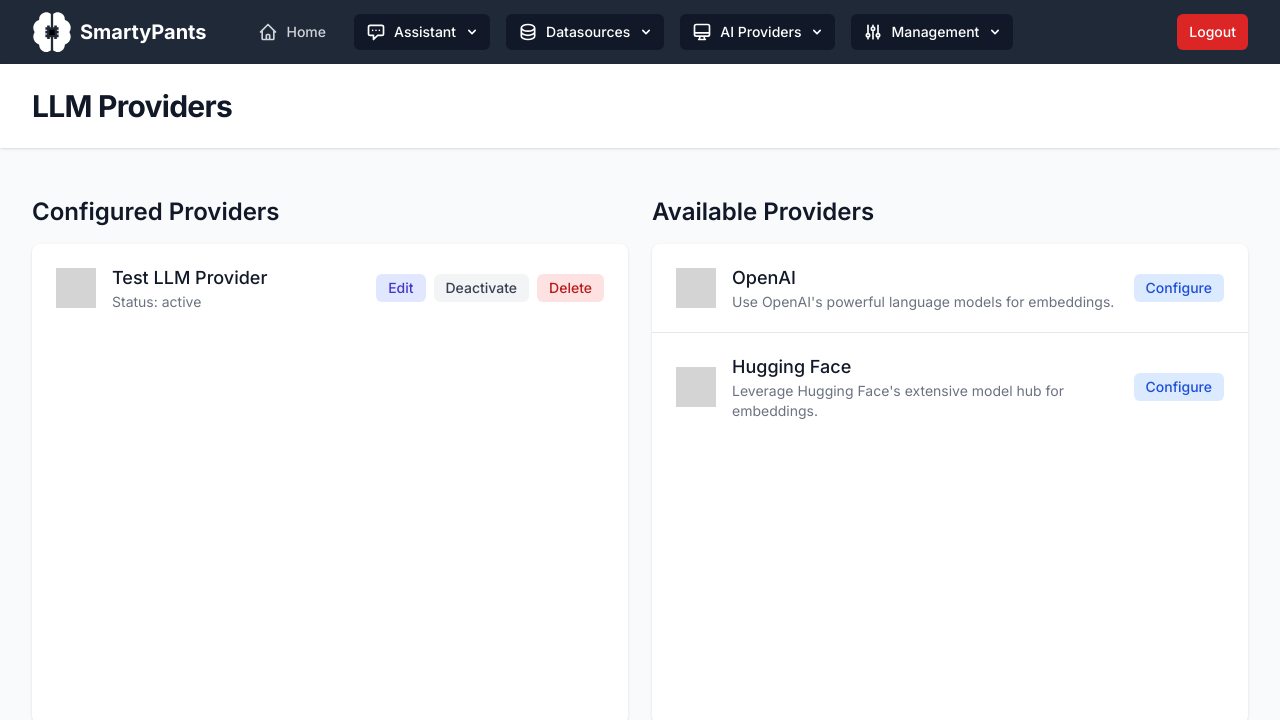
Test: LLMProvidersPage › handles deactivate provider
The width and height of the screenshot is (1280, 720).
expect the heading "Test LLM Provider" is shown: met, box [112,264,267,292]
Click the button "Deactivate": (481, 288) [434,274,529,302]
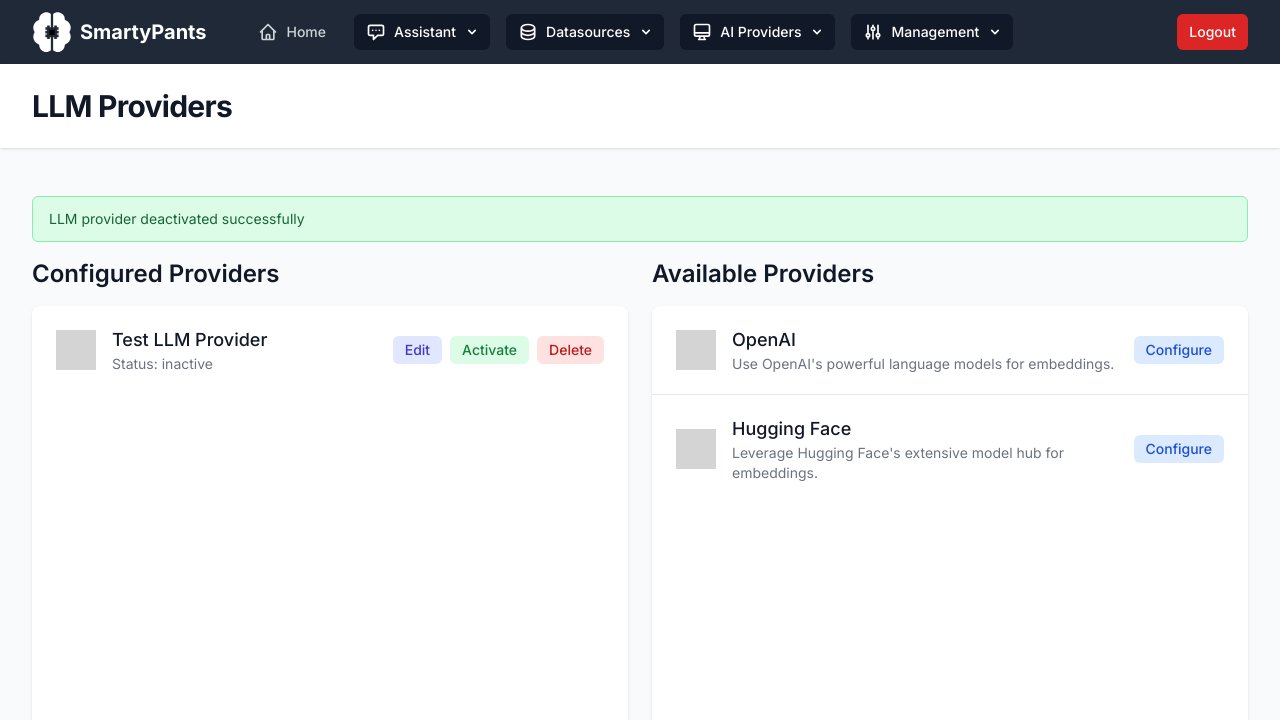
expect the text "LLM provider deactivated successfully" is shown: met, box [49,210,305,227]
